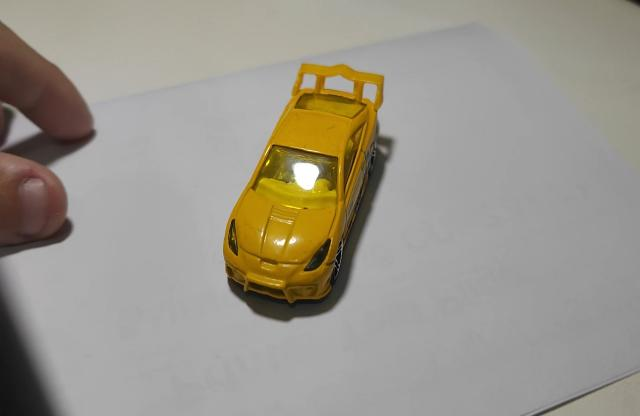07_RHLTURBO: (222, 64, 385, 306)
